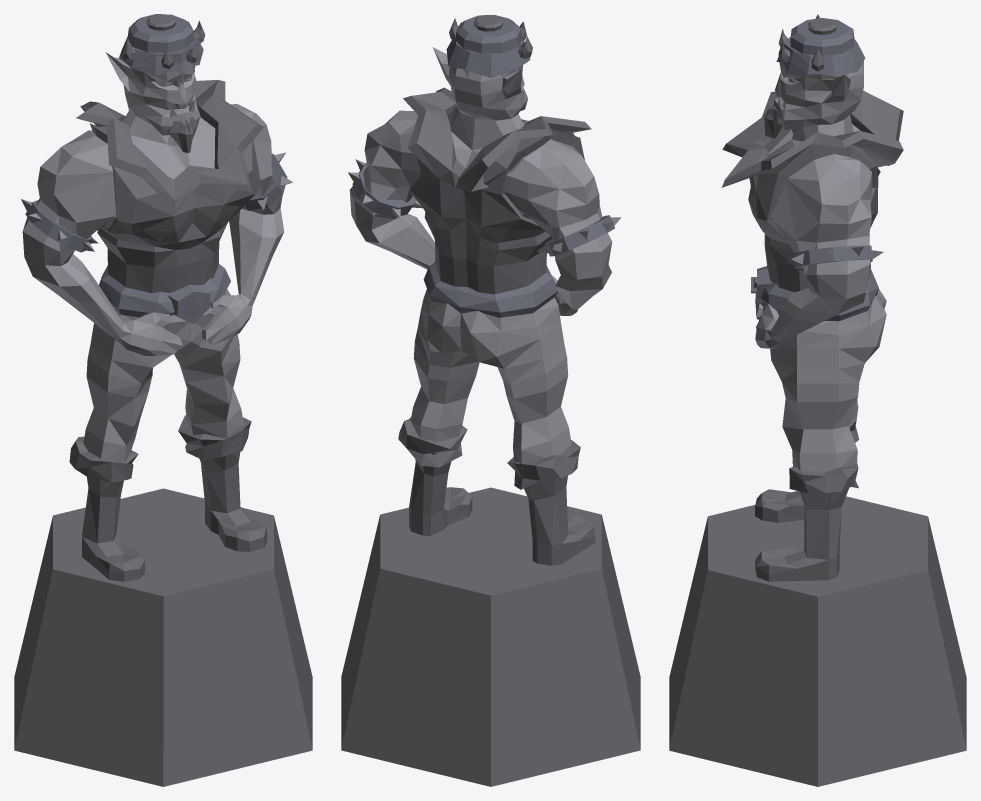
The model's file is statue_2.fbx.
The picture shows the model from 3 angles, left to right: view 1: azimuth 30°, elevation 25°; view 2: azimuth 150°, elevation 25°; view 3: azimuth 270°, elevation 25°; orthographic projection.
Visible parts, largest first — view 1: statue_2; view 2: statue_2; view 3: statue_2.
Part boxes in pixels (x1=…): statue_2: x1=14, y1=14, x2=312, y2=786; statue_2: x1=341, y1=14, x2=640, y2=786; statue_2: x1=669, y1=14, x2=966, y2=786.
Size of the model in its own units: 192 by 426 by 166.
